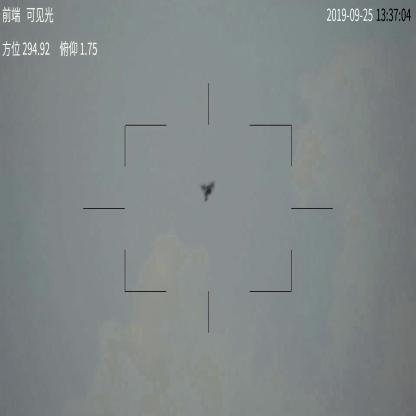uav: (200, 180, 218, 202)
